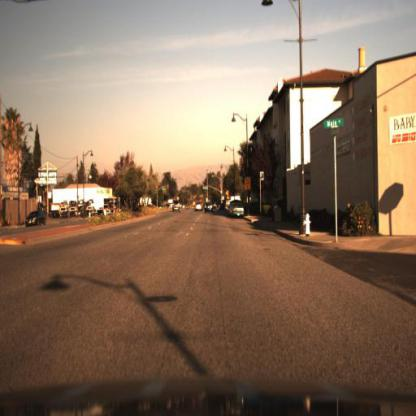car: (171, 193, 184, 218), (26, 210, 45, 227), (230, 201, 248, 218), (204, 199, 219, 219), (194, 200, 206, 217)
pedestrian: (274, 202, 280, 220)
